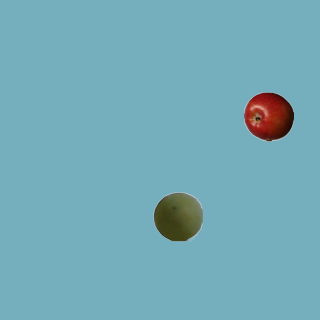Apple Braeburn: (243, 91, 293, 141)
Grape White 4: (152, 191, 202, 241)
